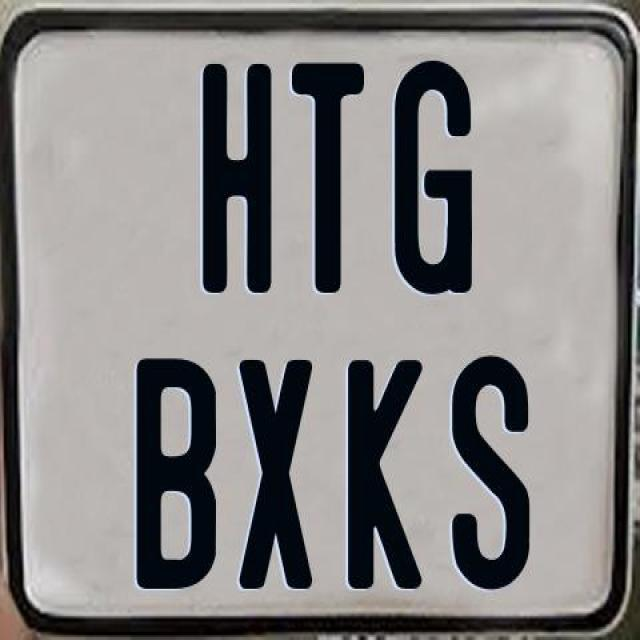B: (136, 357, 216, 587)
G: (392, 58, 474, 292)
H: (202, 64, 272, 302)
K: (346, 356, 428, 588)
S: (449, 351, 534, 584)
T: (288, 62, 364, 298)
X: (234, 357, 314, 590)
